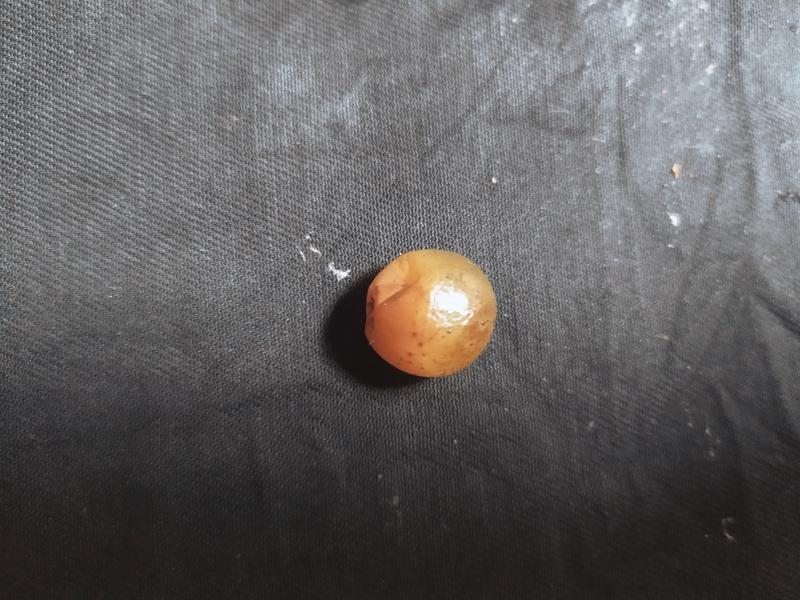Grape Rotten: (361, 246, 499, 382)
